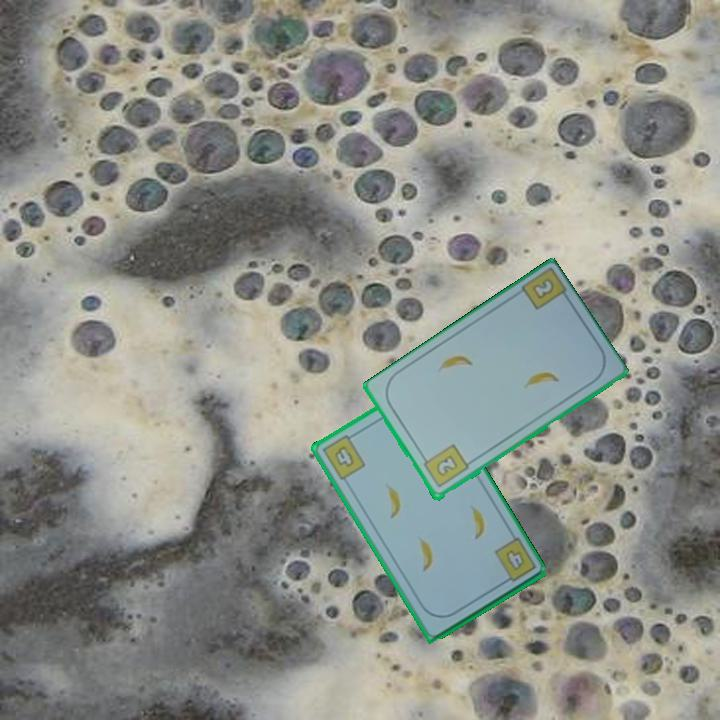2b: (418, 441, 471, 491), (529, 275, 557, 302)
4b: (319, 430, 368, 483), (491, 534, 539, 587)
